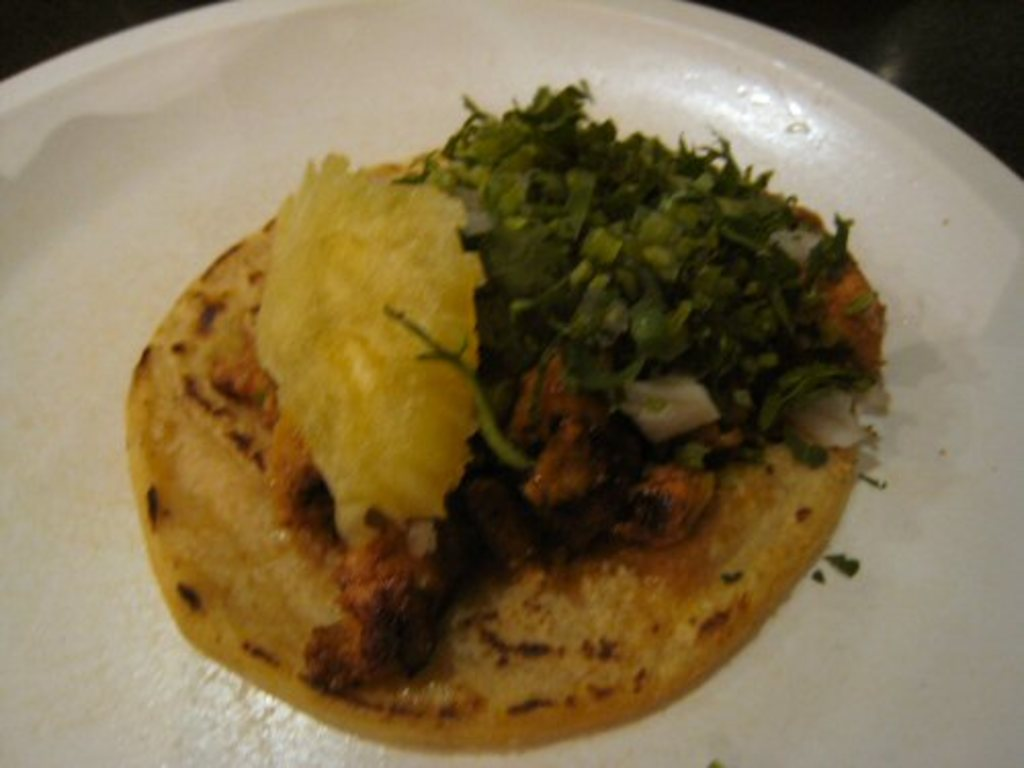taco: (141, 45, 946, 733)
